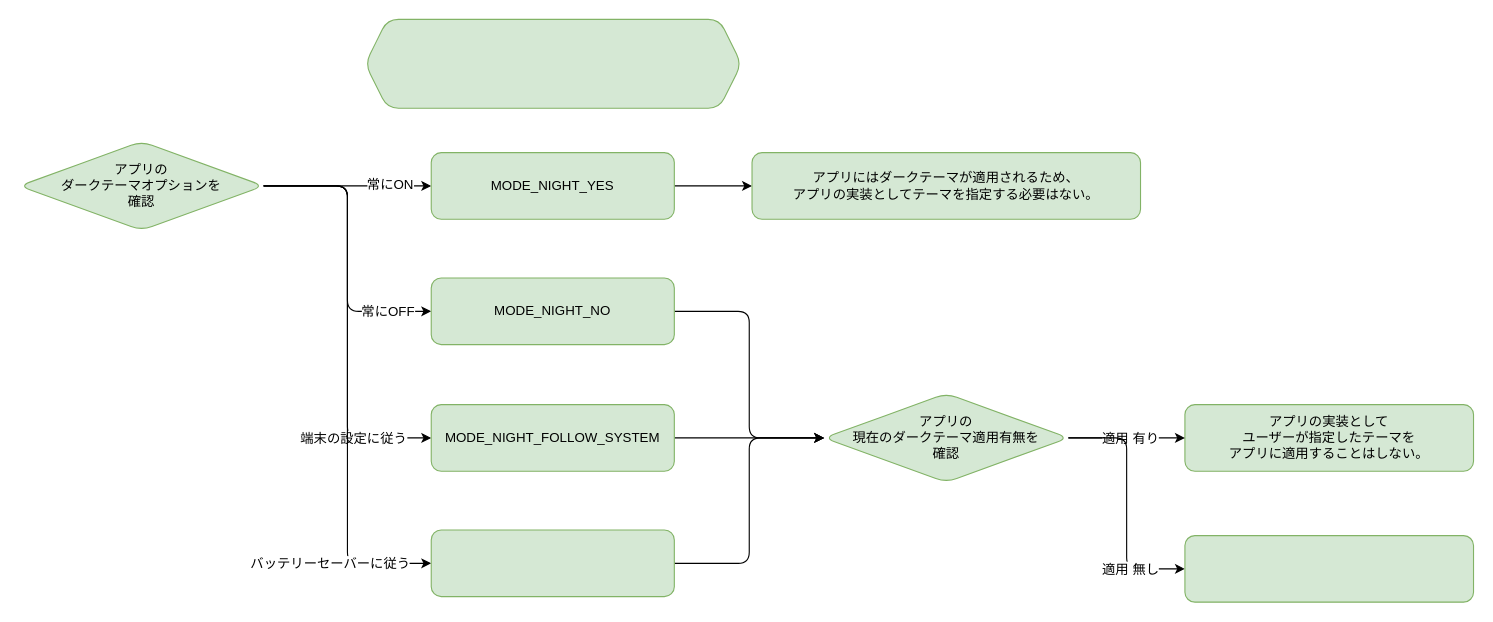
The diagram is 1493 pixels wide and 622 high, and some of its shapes have lost their labels. The centre of each missing label's shape, as x and y in pixels:
"MODE_NIGHT_AUTO_BATTERY" goes at pixel 552 563.
"setDefaultNightMode() メソッドを実行して、 アプリのダークテーマの適用方針を指定する" goes at pixel 552 63.
"アプリの実装として ユーザーが指定したテーマを アプリに適用する。" goes at pixel 1329 568.
